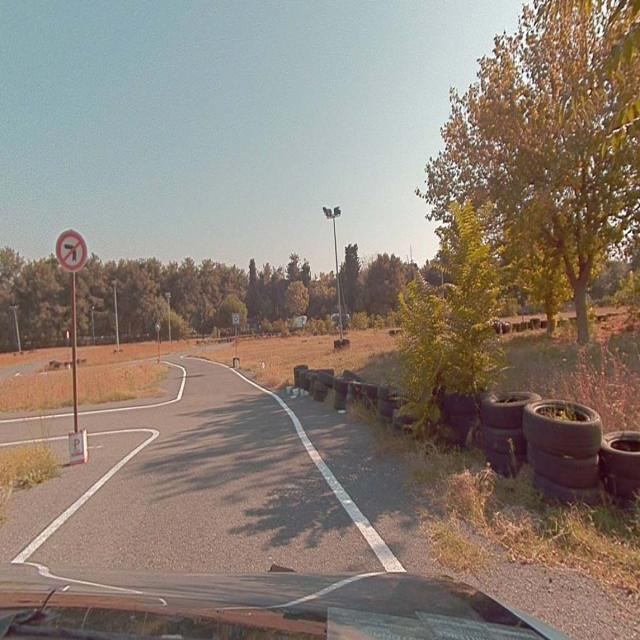durak: (232, 313, 238, 323)
soladonulmez: (56, 231, 86, 270)
